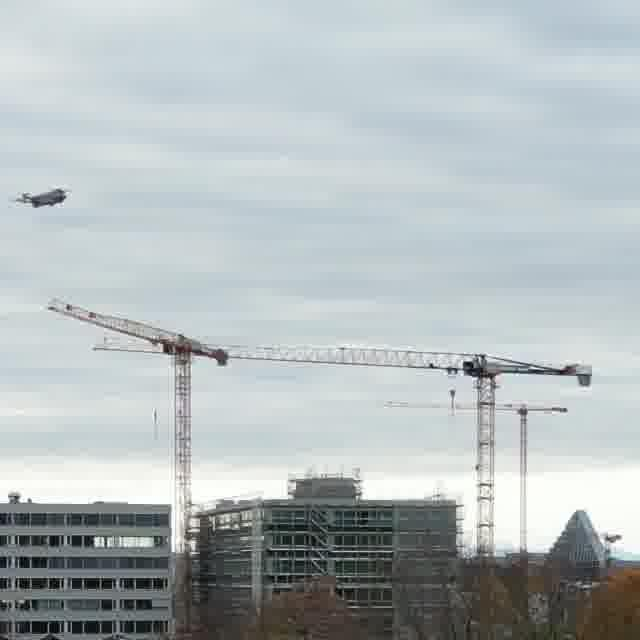Drohne: (14, 188, 69, 207)
